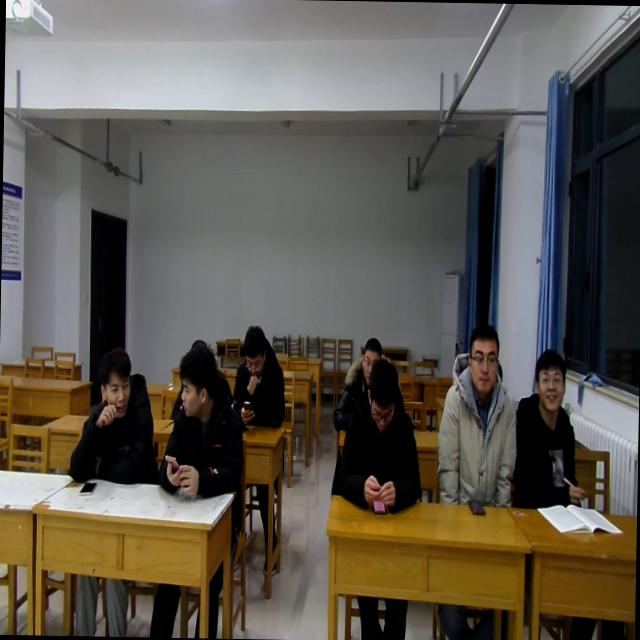bow: (230, 323, 286, 429), (331, 330, 388, 432)
down: (363, 356, 399, 435), (236, 318, 268, 377), (357, 334, 380, 386)
lookup: (464, 317, 501, 398), (529, 345, 566, 417)
sit: (436, 322, 518, 508), (157, 338, 246, 500), (332, 358, 425, 512), (66, 344, 158, 487), (511, 346, 585, 510)
